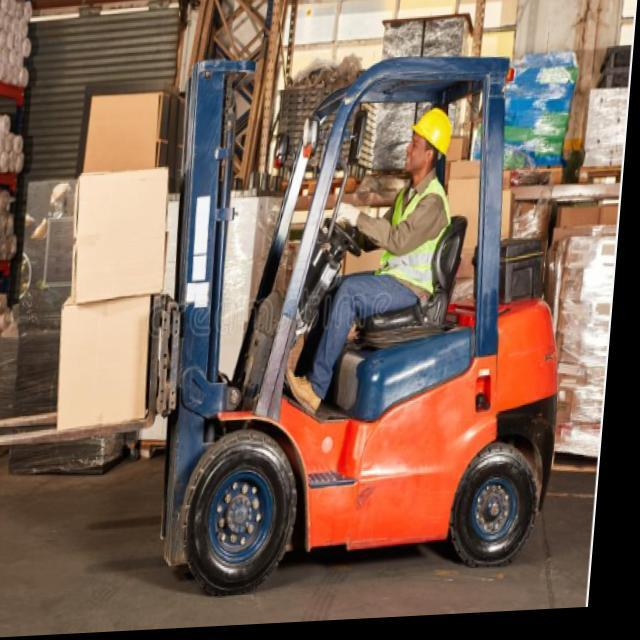hard_hat: (400, 99, 457, 178)
shoes: (273, 354, 333, 425)
vest: (376, 167, 453, 303)
